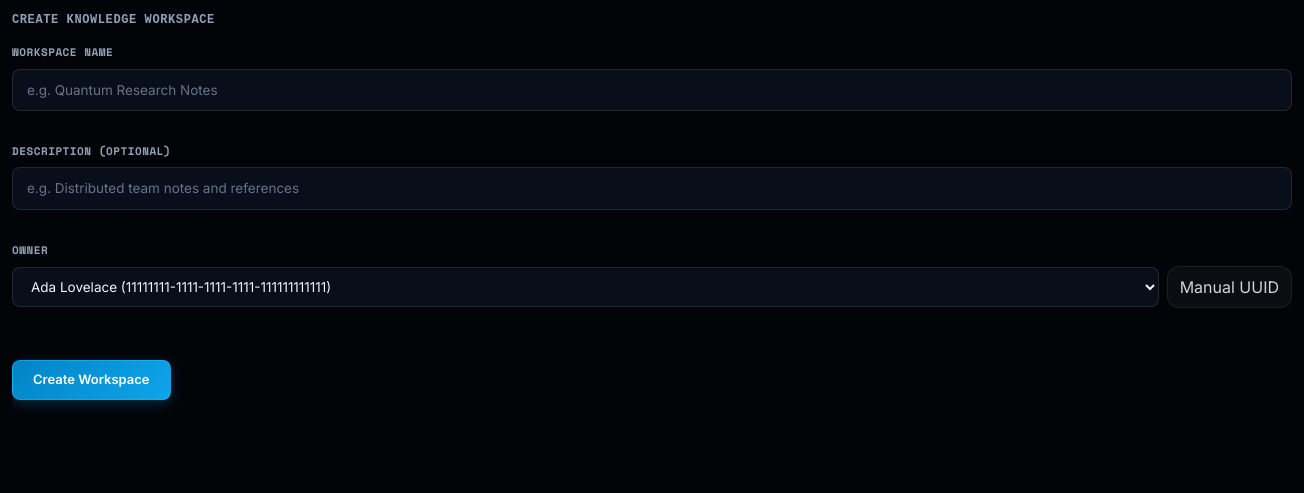
Test: Workstream A Component Test Suite (§18, §22.2) › WorkspaceCreateForm › validates empty workspace name
Click the button with test id "workspace-create-submit" at (91, 380), box [12,360,171,400]
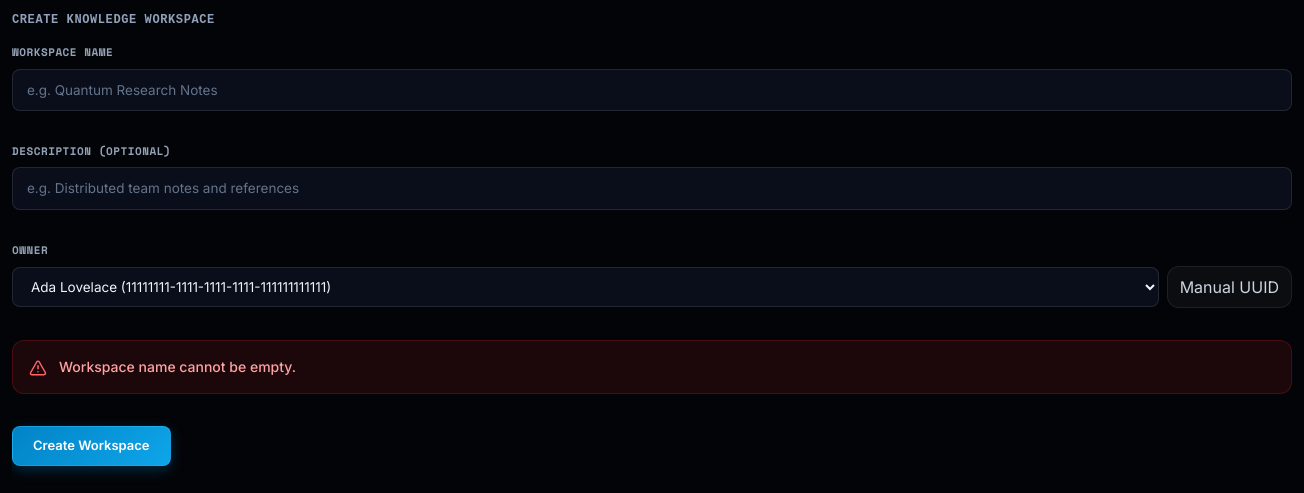
Expected: the element with test id "error-state" reads "Workspace name cannot be empty.", [59,358,296,375]
